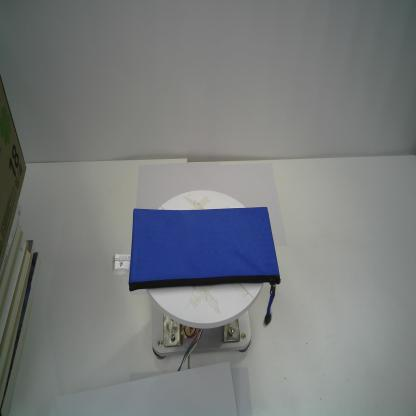Stationery: (127, 206, 280, 328)
